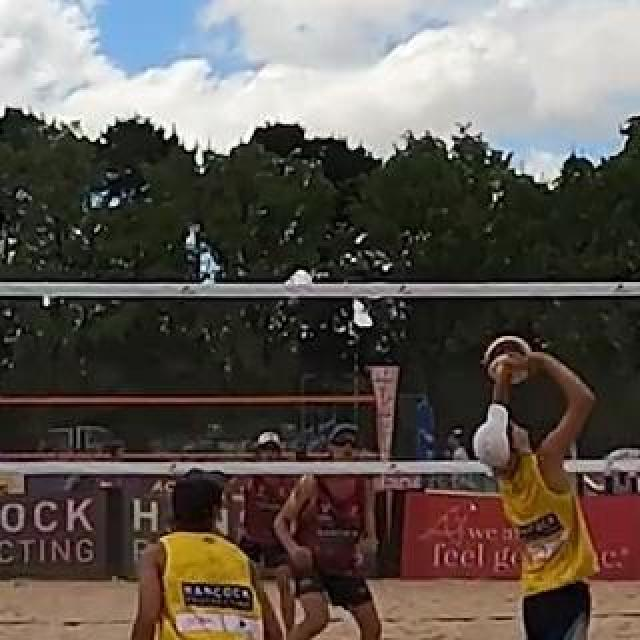volleyball: (485, 335, 529, 383)
